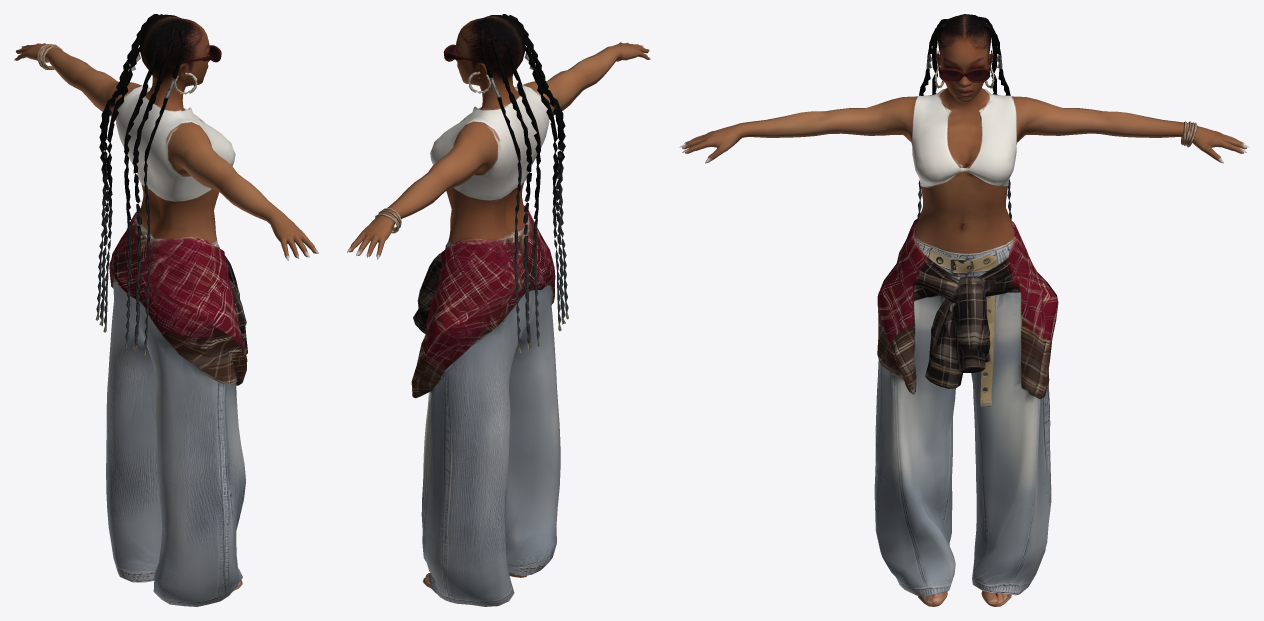
The model's file is humancharacter3dmodel1.glb.
3 views of the same model, side by side, from view 1: azimuth 30°, elevation 25°; view 2: azimuth 150°, elevation 25°; view 3: azimuth 270°, elevation 25° (orthographic).
Visible parts, largest first — view 1: tripo_node_4d5ff570-0055-47a0-a150-7d2f61679660; view 2: tripo_node_4d5ff570-0055-47a0-a150-7d2f61679660; view 3: tripo_node_4d5ff570-0055-47a0-a150-7d2f61679660.
Boxes of the visible parts, x1,y1,x2,y2 form: tripo_node_4d5ff570-0055-47a0-a150-7d2f61679660: (14,14,318,606); tripo_node_4d5ff570-0055-47a0-a150-7d2f61679660: (347,14,650,606); tripo_node_4d5ff570-0055-47a0-a150-7d2f61679660: (679,14,1249,606).
Bounding box in the file's own units: 0.2427 × 0.9995 × 0.9146.
1 material, 1 textured.
